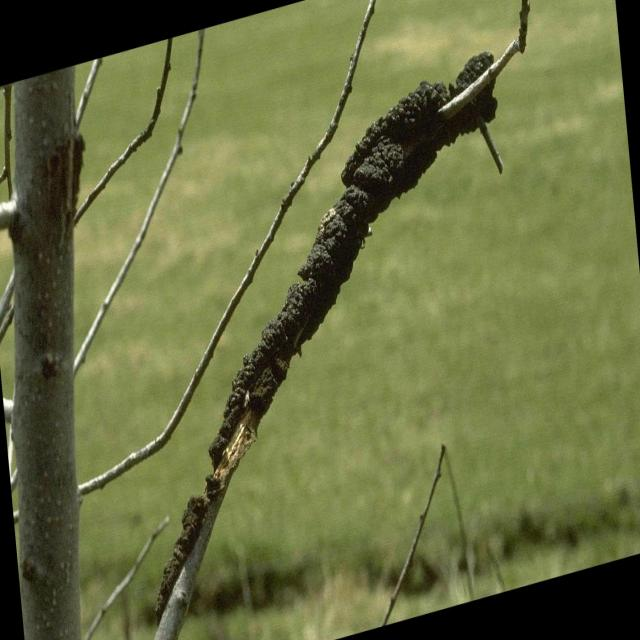Black_knot: (129, 72, 499, 580)
